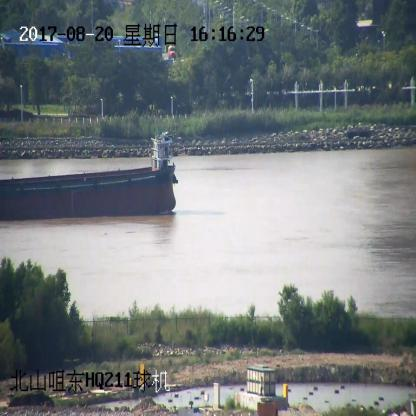Bulk Carrier: (0, 133, 181, 216)
